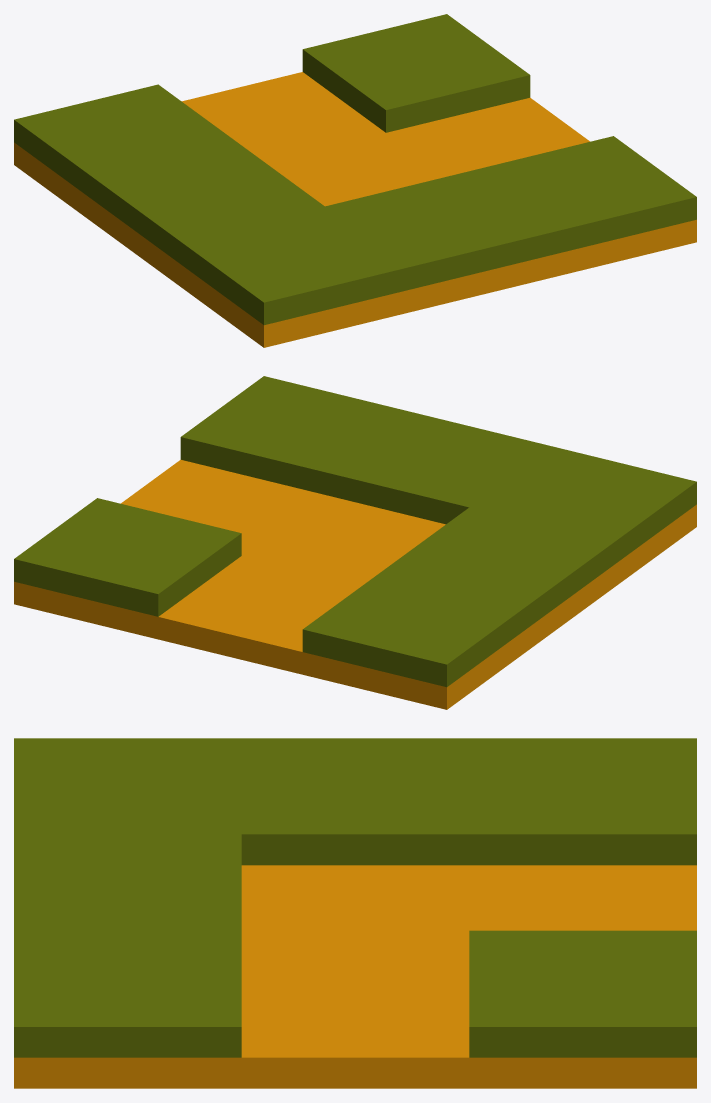
The model's file is FarmCurve.fbx.
3 views of the same model, one above another, from view 1: azimuth 30°, elevation 25°; view 2: azimuth 150°, elevation 25°; view 3: azimuth 270°, elevation 25° (orthographic). The views are drawn at different scales.
Parts seen in each view (by area): view 1: FarmCurve; view 2: FarmCurve; view 3: FarmCurve.
Part boxes in pixels (x1,y1,x2,y2): FarmCurve: [14, 14, 696, 347]; FarmCurve: [14, 376, 696, 709]; FarmCurve: [14, 738, 696, 1088].
Size of the model in its own units: 1 by 0.1 by 1.
